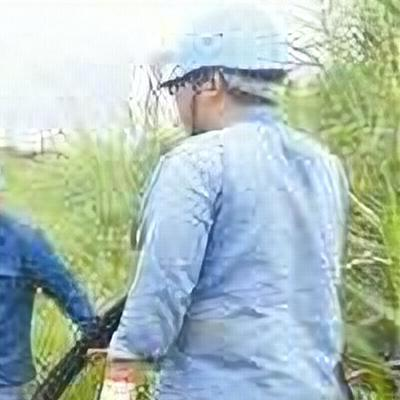hardHat: (145, 9, 316, 141)
